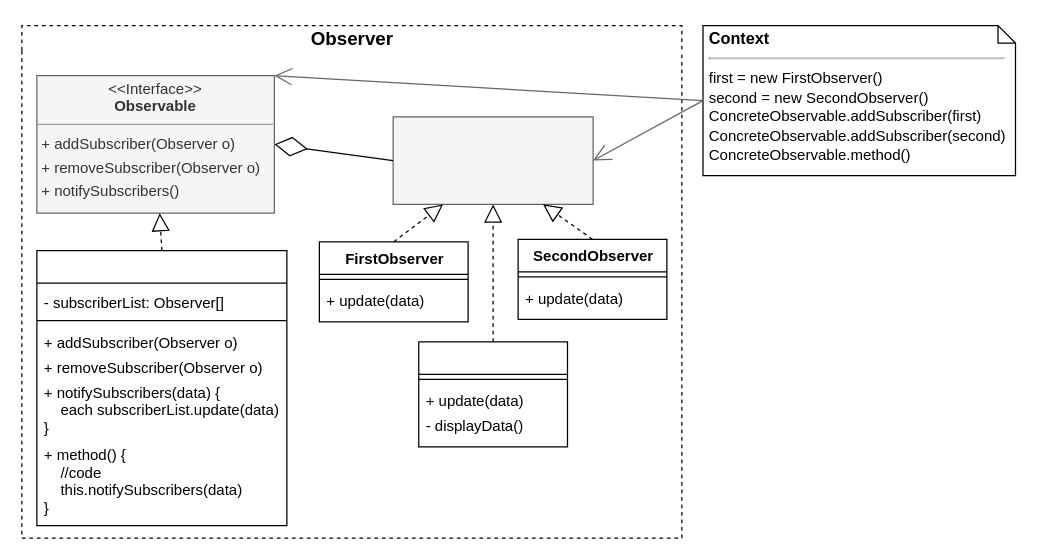
This 1038x560 diagram has some shape labels left out. Here are the shapes that lost their labels. From the top down, the box of each, then its label:
(392, 116, 593, 204): <<Interface>> Observer + update(data)
(36, 249, 287, 526): ConcreteObservable
(418, 341, 568, 447): AnotherObserver
